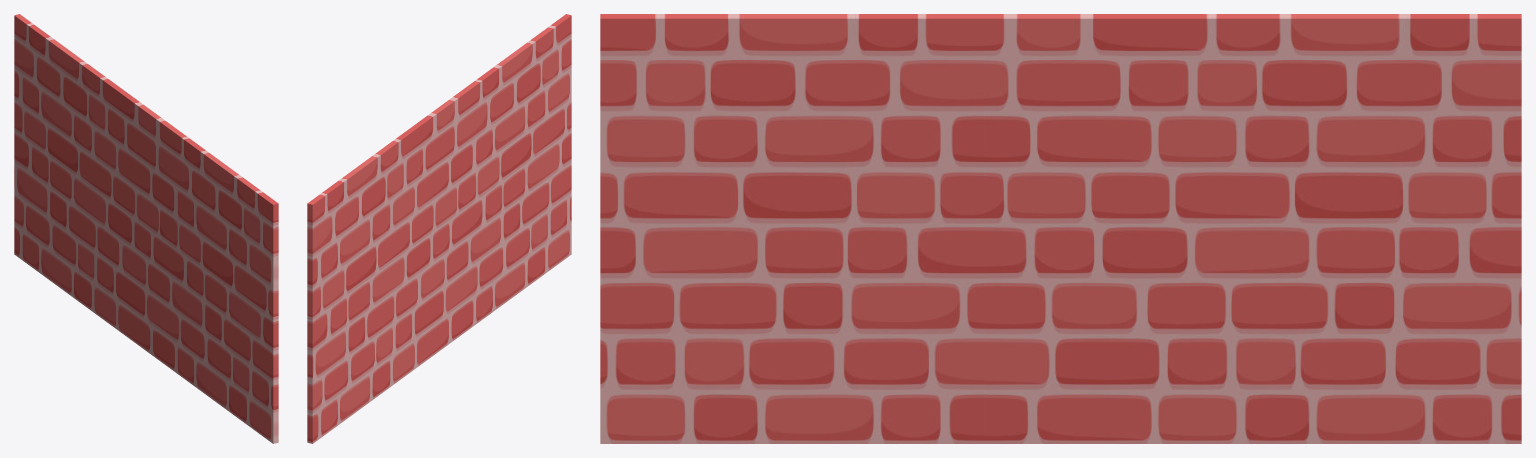
Rendered from PARED CHICA LADRILO PARQUE.fbx.
3 renders of one model, left to right at view 1: azimuth 30°, elevation 25°; view 2: azimuth 150°, elevation 25°; view 3: azimuth 270°, elevation 25°, orthographic. The views are drawn at different scales.
Parts seen in each view (by area): view 1: PARED CHICA LADRILLO; view 2: PARED CHICA LADRILLO; view 3: PARED CHICA LADRILLO.
Part boxes in pixels (x1,y1,x2,y2): PARED CHICA LADRILLO: [14, 14, 278, 443]; PARED CHICA LADRILLO: [307, 14, 571, 443]; PARED CHICA LADRILLO: [600, 14, 1521, 443].
Size of the model in its own units: 63.39 by 2622 by 5150.
